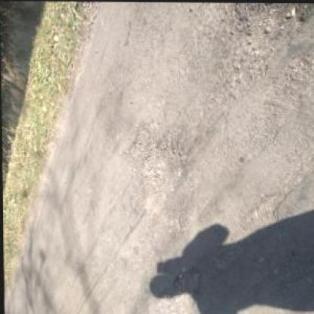Hueco: (140, 141, 188, 214), (119, 122, 150, 175)
